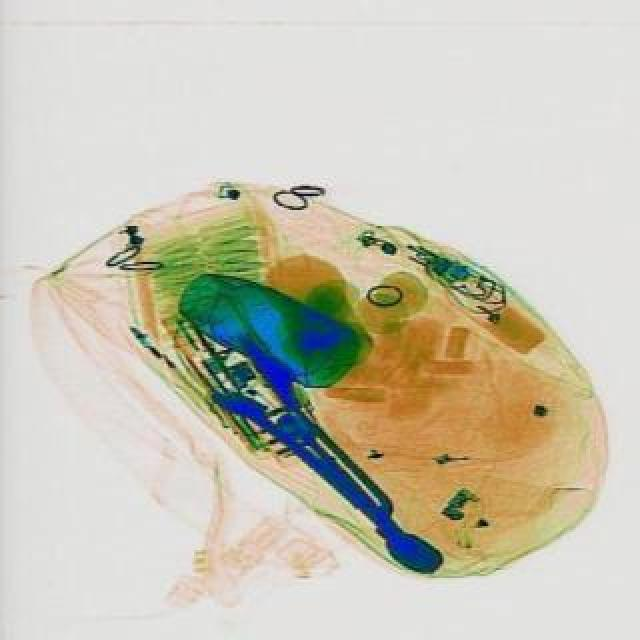scissors: (200, 374, 448, 582)
